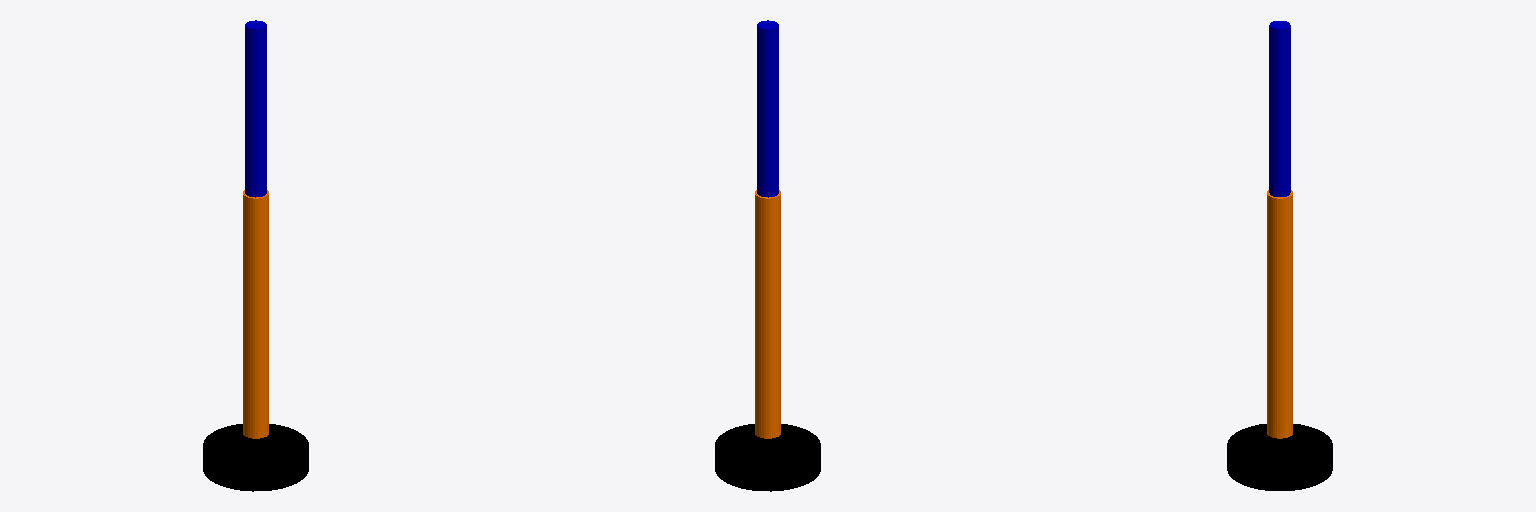
robot.urdf — simple_arm:
<?xml version="1.0"?>
<robot name="simple_arm">

  <!-- ======================================= -->
  <!-- MATERIALS (Colors for Visualization)    -->
  <!-- ======================================= -->
  <material name="black">
    <color rgba="0.0 0.0 0.0 1.0"/>
  </material>
  
  <material name="blue">
    <color rgba="0.0 0.0 0.8 1.0"/>
  </material>

  <material name="orange">
    <color rgba="1.0 0.5 0.0 1.0"/>
  </material>

  <!-- ======================================= -->
  <!-- LINKS (The rigid parts of the arm)      -->
  <!-- ======================================= -->
  
  <!-- 1. World/Base Link -->
  <link name="base_link">
    <visual>
      <origin xyz="0 0 0" rpy="0 0 0"/>
      <geometry>
        <cylinder radius="0.2" length="0.1"/>
      </geometry>
      <material name="black"/>
    </visual>
  </link>

  <!-- 2. Upper Arm Link -->
  <link name="upper_arm">
    <visual>
      <origin xyz="0 0 0.5" rpy="0 0 0"/>
      <geometry>
        <cylinder radius="0.05" length="1.0"/>
      </geometry>
      <material name="orange"/>
    </visual>
  </link>

  <!-- 3. Forearm Link -->
  <link name="forearm">
    <visual>
      <origin xyz="0 0 0.4" rpy="0 0 0"/>
      <geometry>
        <cylinder radius="0.04" length="0.8"/>
      </geometry>
      <material name="blue"/>
    </visual>
  </link>

  <!-- ======================================= -->
  <!-- JOINTS (How the links are connected)    -->
  <!-- ======================================= -->

  <!-- 1. Shoulder Joint (Revolute: Rotates on Z axis) -->
  <joint name="shoulder_joint" type="revolute">
    <parent link="base_link"/>
    <child link="upper_arm"/>
    <origin xyz="0 0 0.1" rpy="0 0 0"/>
    <axis xyz="0 0 1"/>
    <limit lower="-1.57" upper="1.57" effort="100.0" velocity="1.0"/>
  </joint>

  <!-- 2. Elbow Joint (Revolute: Rotates on Y axis) -->
  <joint name="elbow_joint" type="revolute">
    <parent link="upper_arm"/>
    <child link="forearm"/>
    <origin xyz="0 0 0.9" rpy="0 0 0"/>
    <axis xyz="0 1 0"/>
    <limit lower="-1.57" upper="1.57" effort="100.0" velocity="1.0"/>
  </joint>

</robot>

--- What the picture shows (computed from the rendered views, not written in the file) ---
3 views of the same robot in one strip: view 1: azimuth 30°, elevation 25°; view 2: azimuth 150°, elevation 25°; view 3: azimuth 270°, elevation 25° (orthographic).
Model simple_arm with 3 links and 2 joints (2 revolute), rooted at base_link, posed all joints at 0.
Visible links, largest first — view 1: upper_arm, base_link, forearm; view 2: upper_arm, base_link, forearm; view 3: upper_arm, base_link, forearm.
Boxes of the visible links, x1,y1,x2,y2 form: upper_arm: (243,190,268,438); base_link: (203,424,308,491); forearm: (245,20,266,197); upper_arm: (755,190,780,438); base_link: (715,424,820,491); forearm: (757,20,778,197); upper_arm: (1267,190,1292,438); base_link: (1227,424,1332,490); forearm: (1269,21,1290,196).
Bounding box of the posed robot: 0.4 × 0.4 × 1.85 m (x, y, z).
Geometry: primitives only (box / cylinder / sphere), no mesh files.
